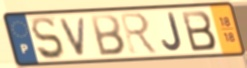B: (179, 9, 219, 53), (89, 13, 127, 58)
J: (161, 11, 185, 53)
R: (117, 11, 161, 56)
S: (30, 15, 67, 62)
V: (58, 16, 88, 58)
